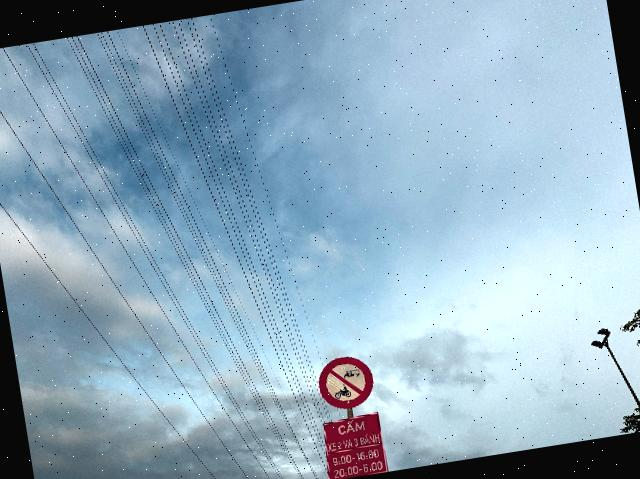cam-xe-2-banh-3-banh: (314, 351, 377, 414)
